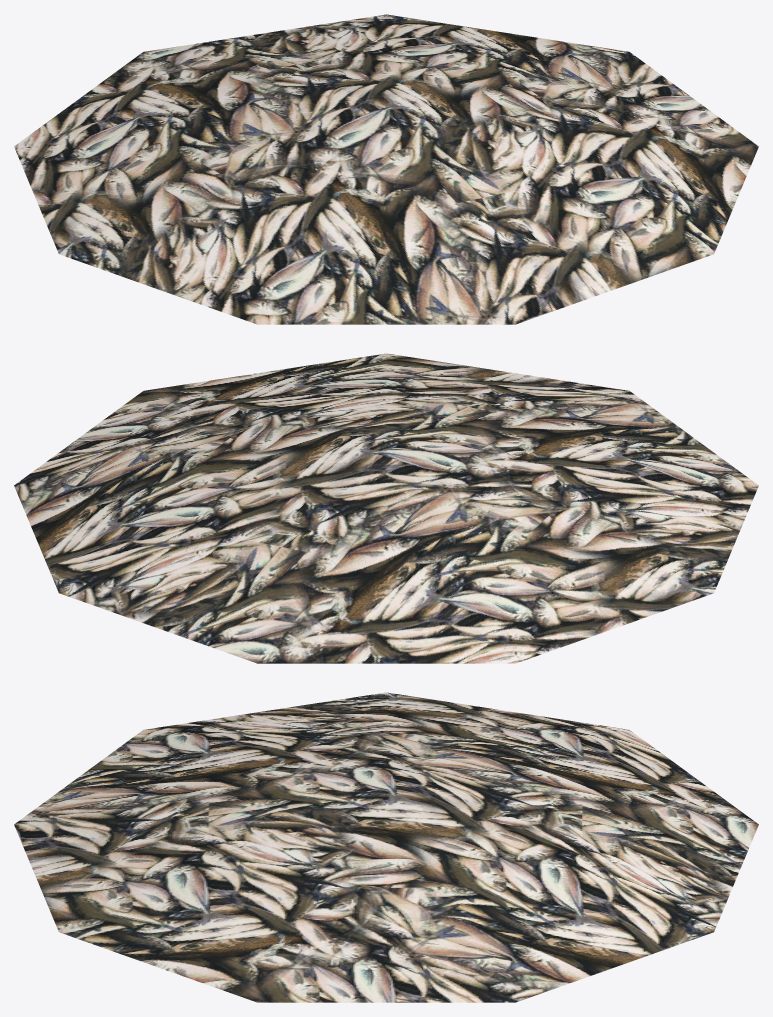
Rendered from environment_common_zhongyaojia_001_e.FBX.
3 renders of one model, top to bottom at view 1: azimuth 30°, elevation 25°; view 2: azimuth 150°, elevation 25°; view 3: azimuth 270°, elevation 25°, orthographic.
Parts seen in each view (by area): view 1: environment_common_zhongyaojia_001_e; view 2: environment_common_zhongyaojia_001_e; view 3: environment_common_zhongyaojia_001_e.
Part boxes in pixels (<box>): environment_common_zhongyaojia_001_e: <box>14,14,758,324</box>; environment_common_zhongyaojia_001_e: <box>14,353,758,663</box>; environment_common_zhongyaojia_001_e: <box>14,692,758,1002</box>.
Size of the model in its own units: 254 by 258 by 24.2.
